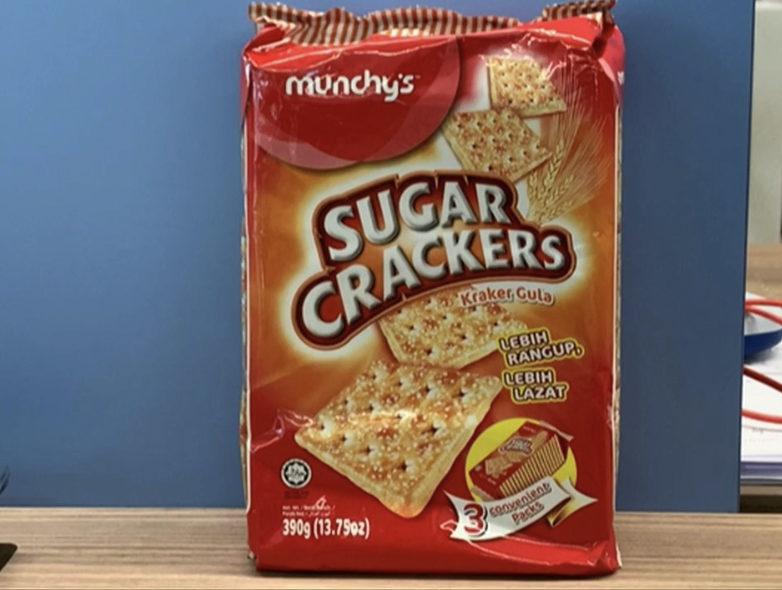crackers_300g-399g: (266, 52, 605, 548)
